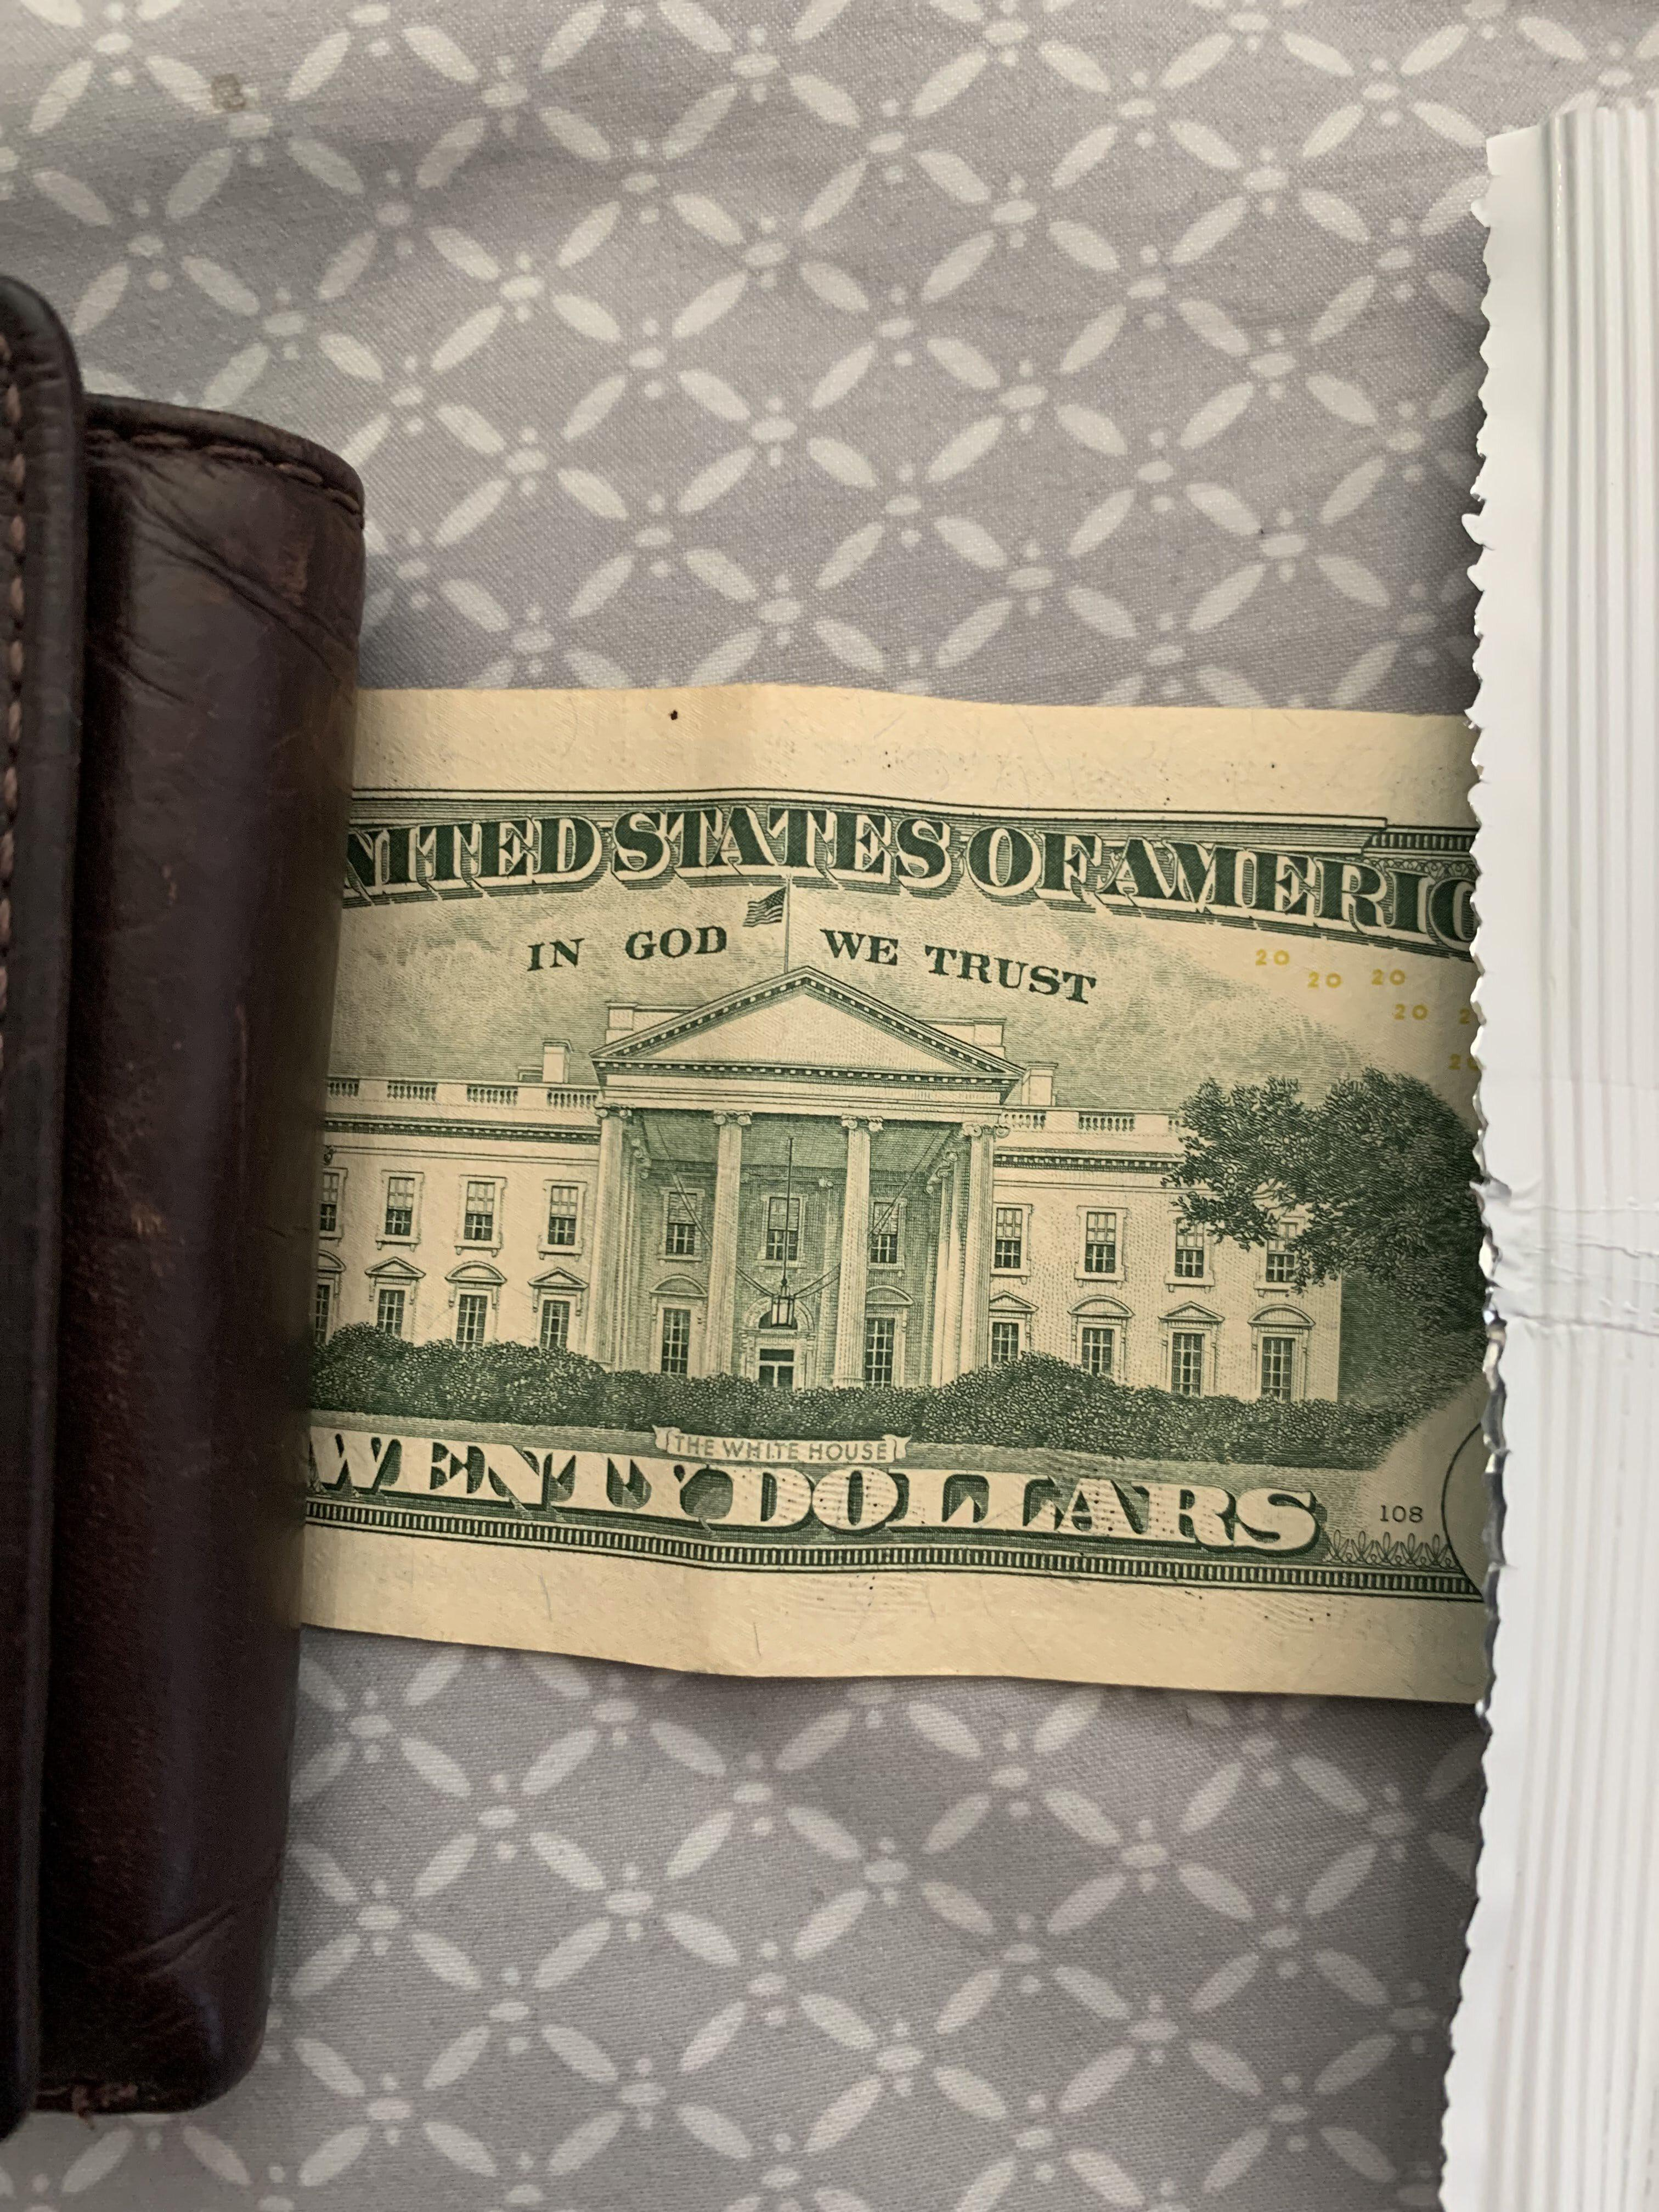TwentyBill: (279, 573, 1601, 1773)
